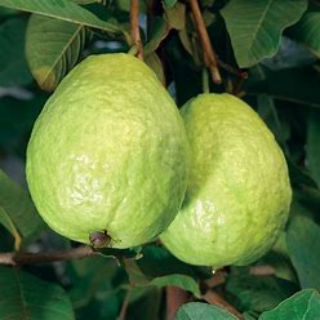oi: (30, 51, 189, 254), (156, 89, 298, 276)
